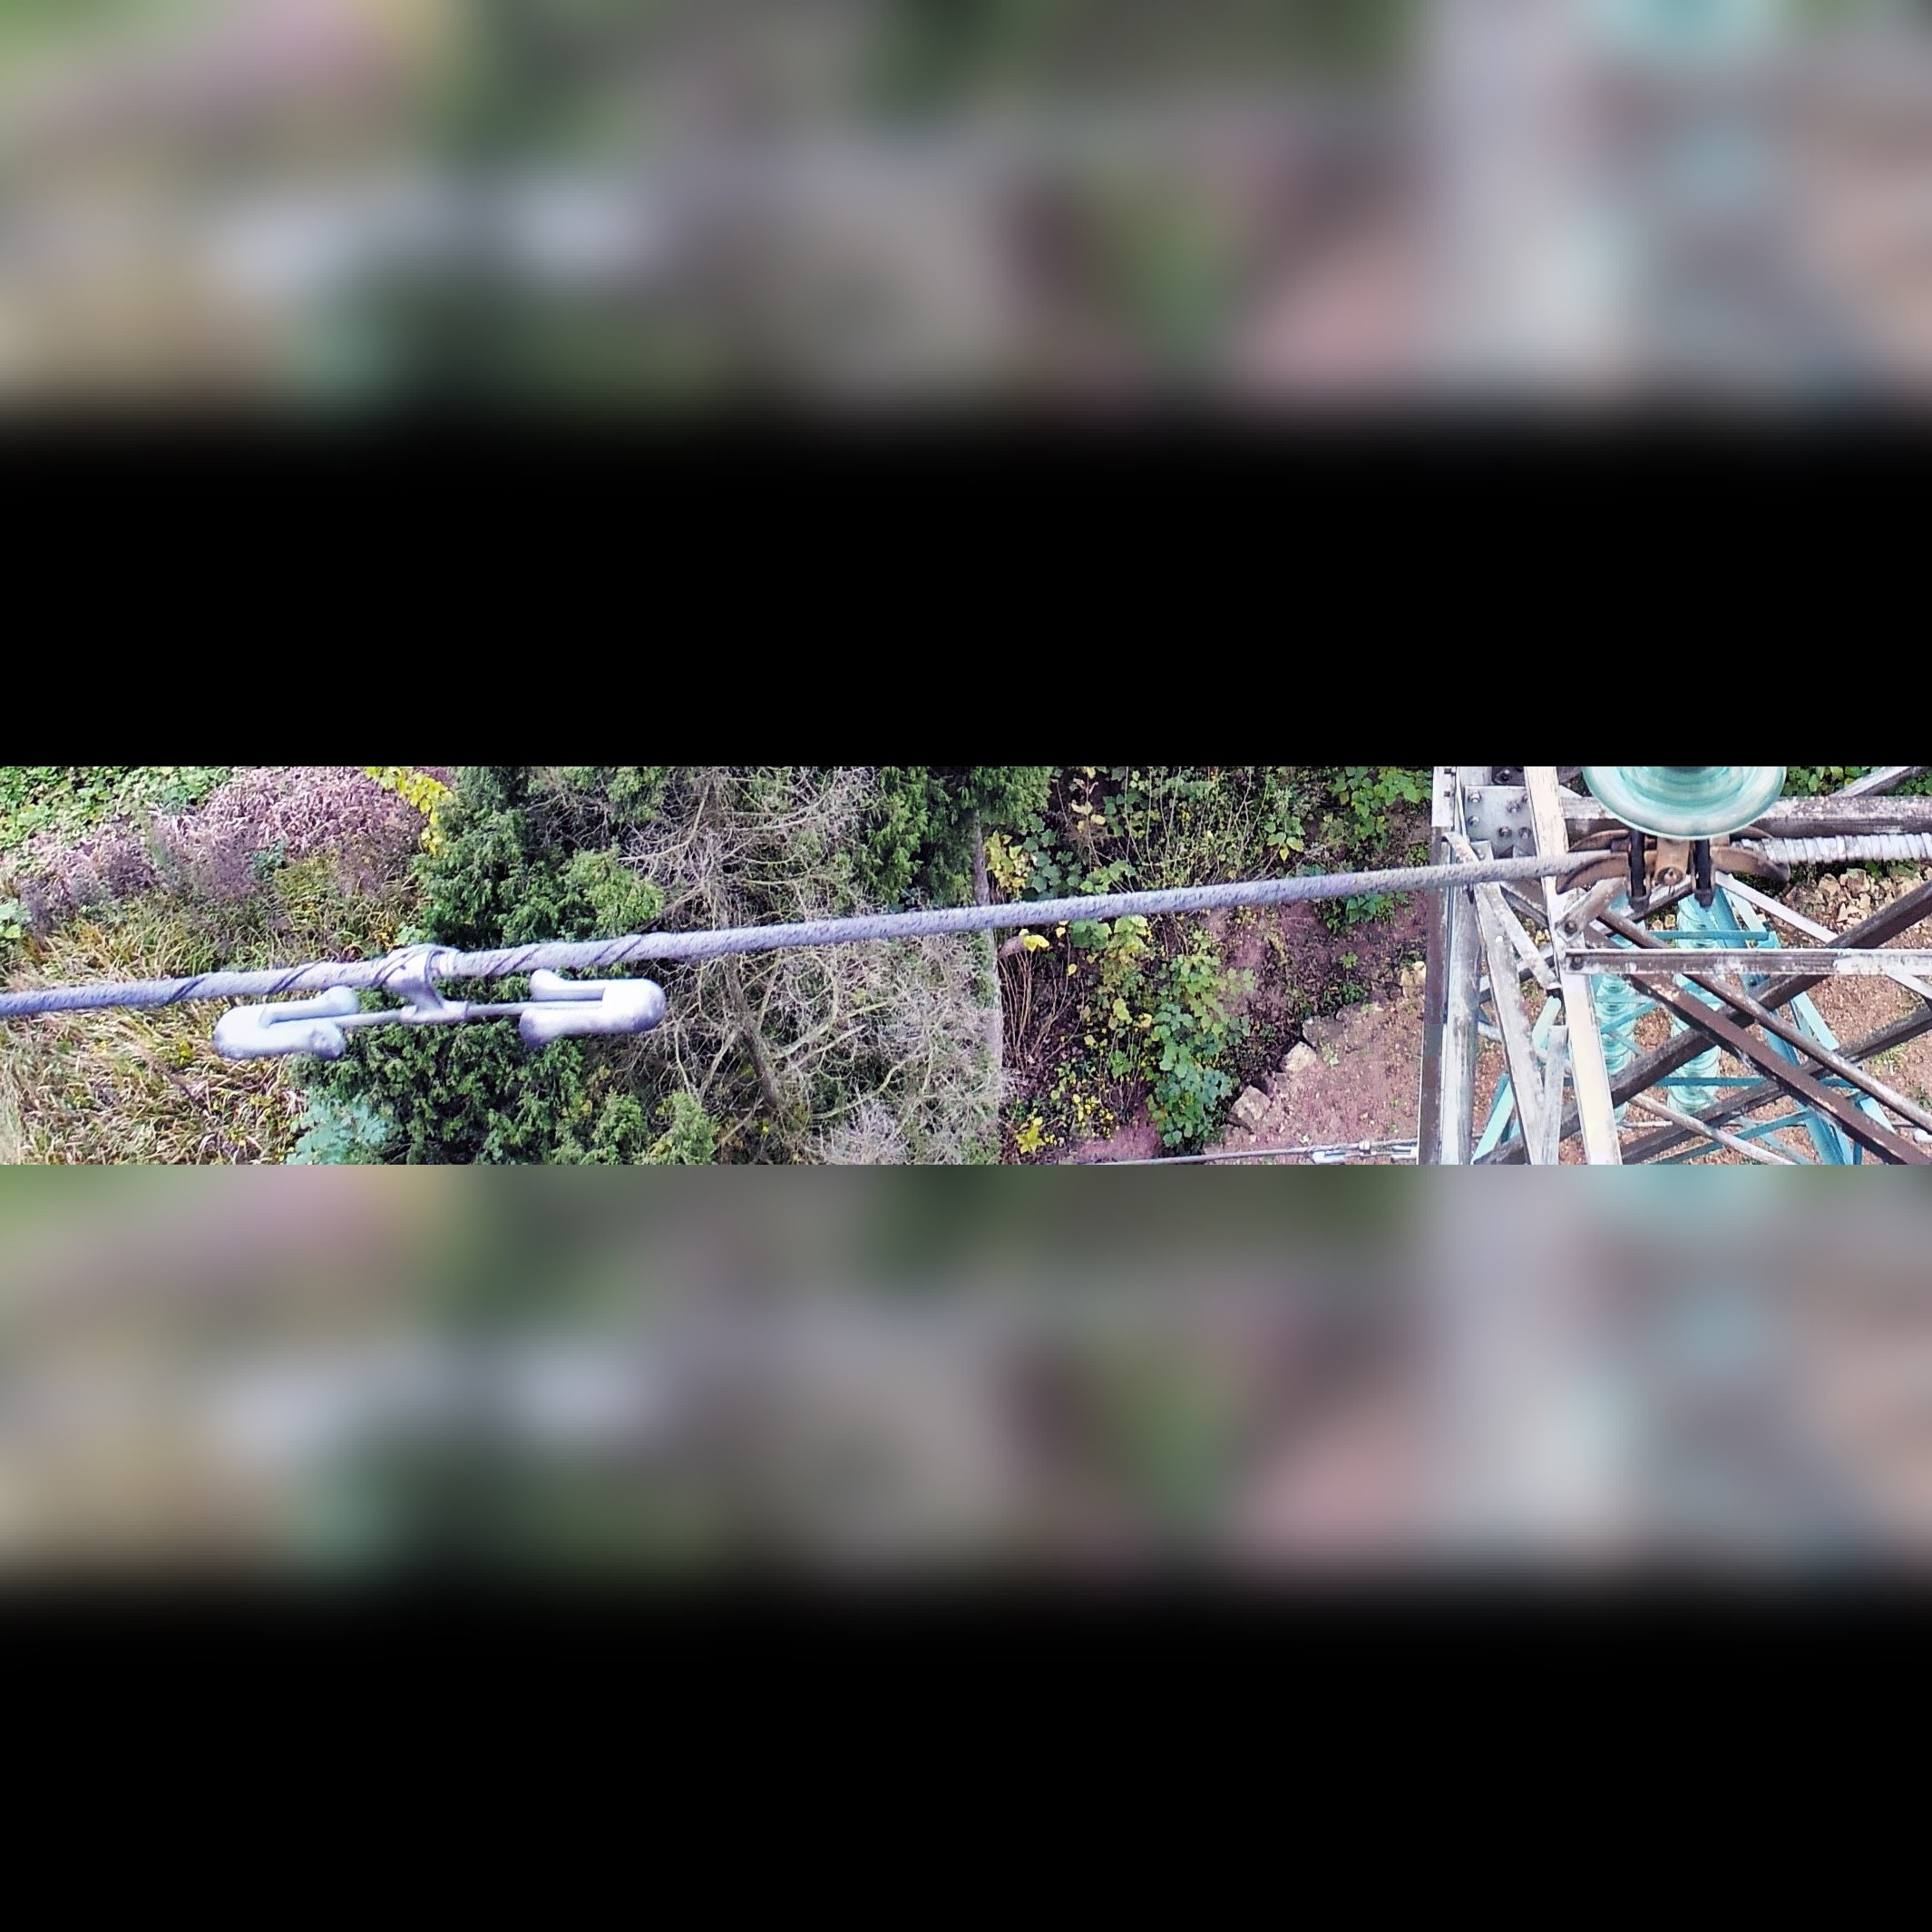Shockproof hammer: (203, 916, 676, 1079)
